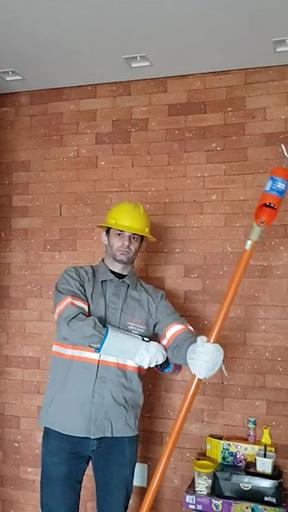Detector_Tensao_Contato: (251, 144, 288, 228)
Vara_Manobra: (143, 226, 257, 512)
